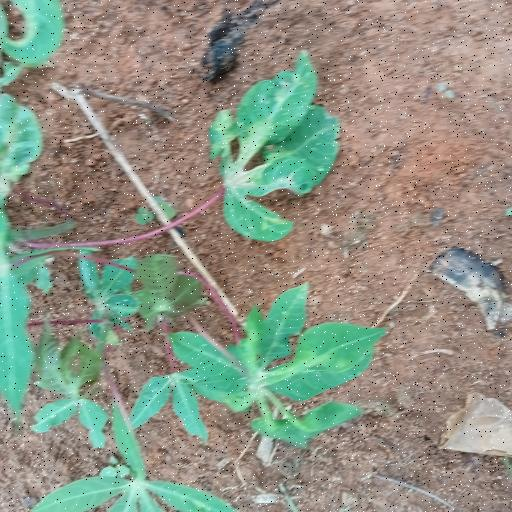Cassava_Mosaic: (176, 284, 388, 455), (209, 67, 341, 237)
